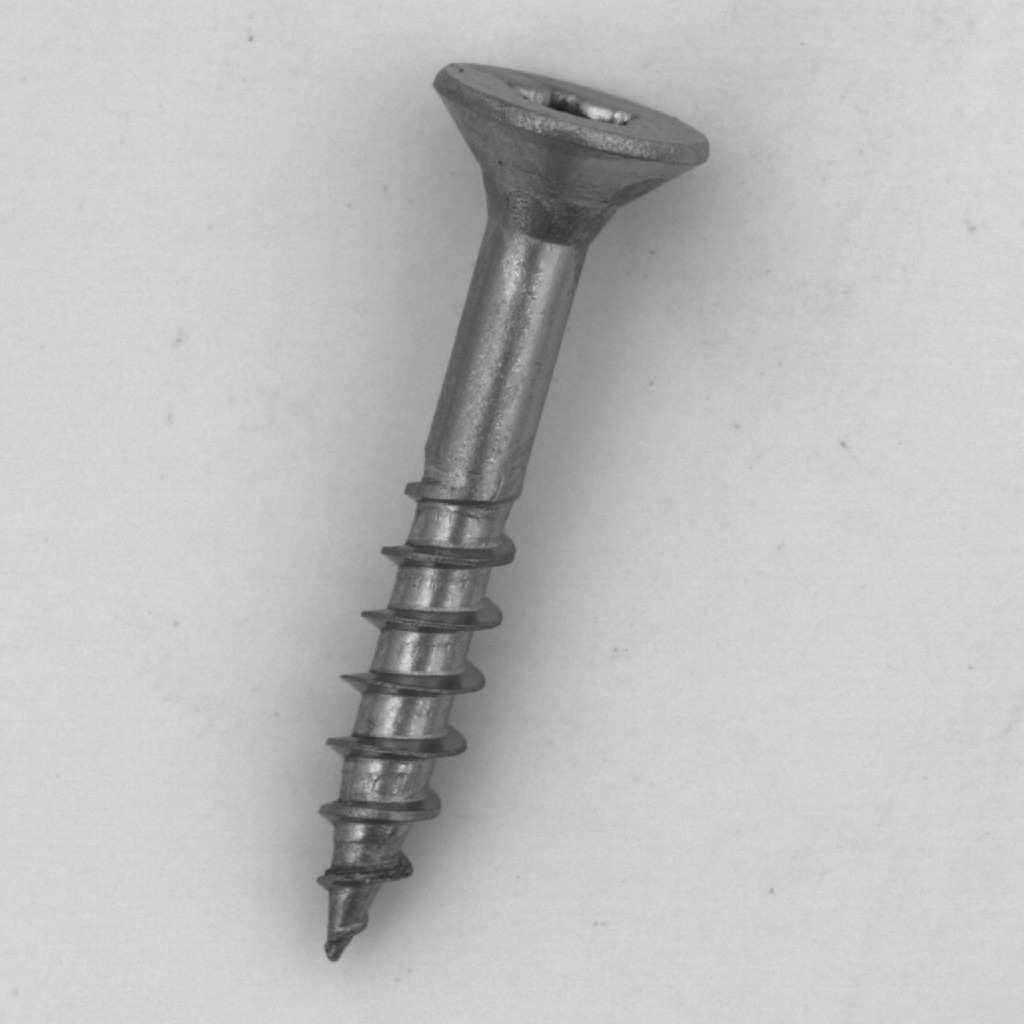good: (292, 43, 732, 973)
